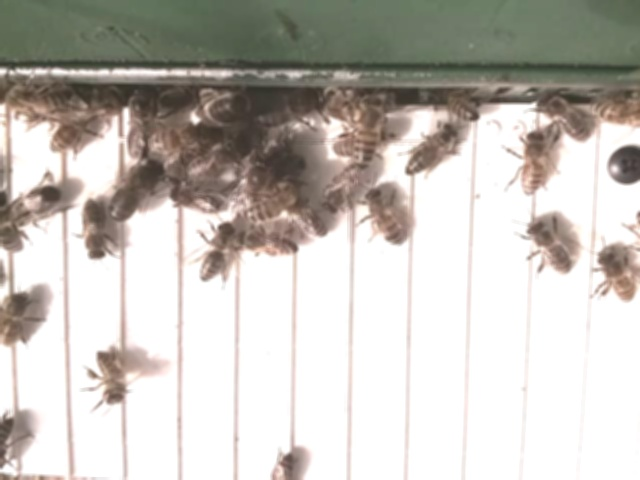Drone: (105, 157, 168, 226)
Worker: (404, 124, 458, 179), (364, 186, 410, 250), (524, 217, 572, 276), (196, 220, 236, 286), (594, 245, 635, 305), (351, 94, 381, 174), (90, 347, 126, 408), (235, 230, 301, 262), (78, 197, 109, 263), (518, 128, 546, 201), (0, 289, 30, 352)
